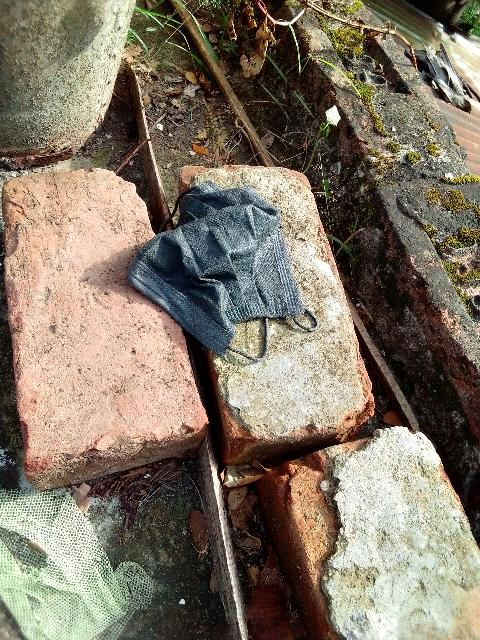mask: (144, 158, 299, 341)
